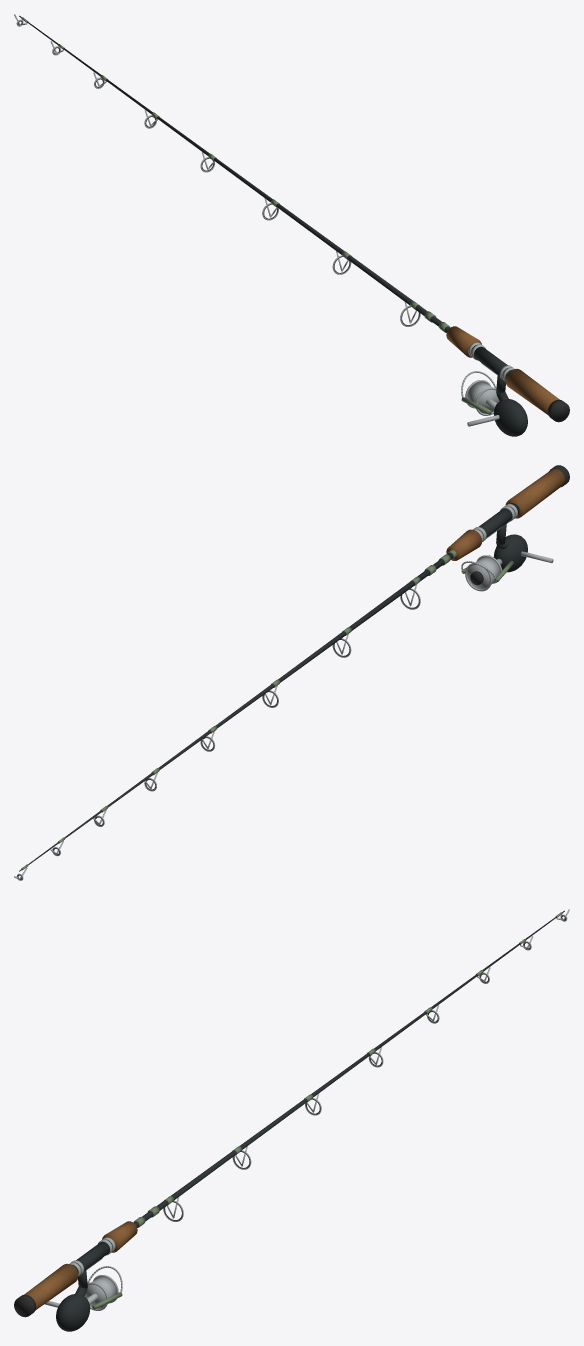
File: willow.glb
3 renders of one model, top to bottom at view 1: azimuth 30°, elevation 25°; view 2: azimuth 150°, elevation 25°; view 3: azimuth 330°, elevation 25°, orthographic.
Visible parts, largest first — view 1: Tapered carbon blank; view 2: Tapered carbon blank; view 3: Tapered carbon blank.
Boxes of the visible parts, left/top/right/bottom form: Tapered carbon blank: left=14, top=14, right=569, bottom=436; Tapered carbon blank: left=14, top=465, right=569, bottom=880; Tapered carbon blank: left=14, top=909, right=569, bottom=1331.
Bounding box in the file's own units: 0.1229 × 0.1315 × 1.91.
Materials: 7 (1 with a texture image).
